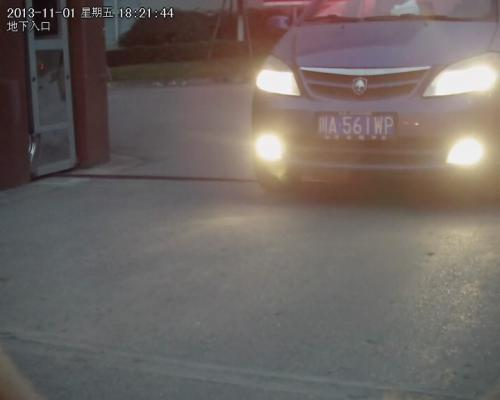Carplate: (310, 106, 403, 147)
